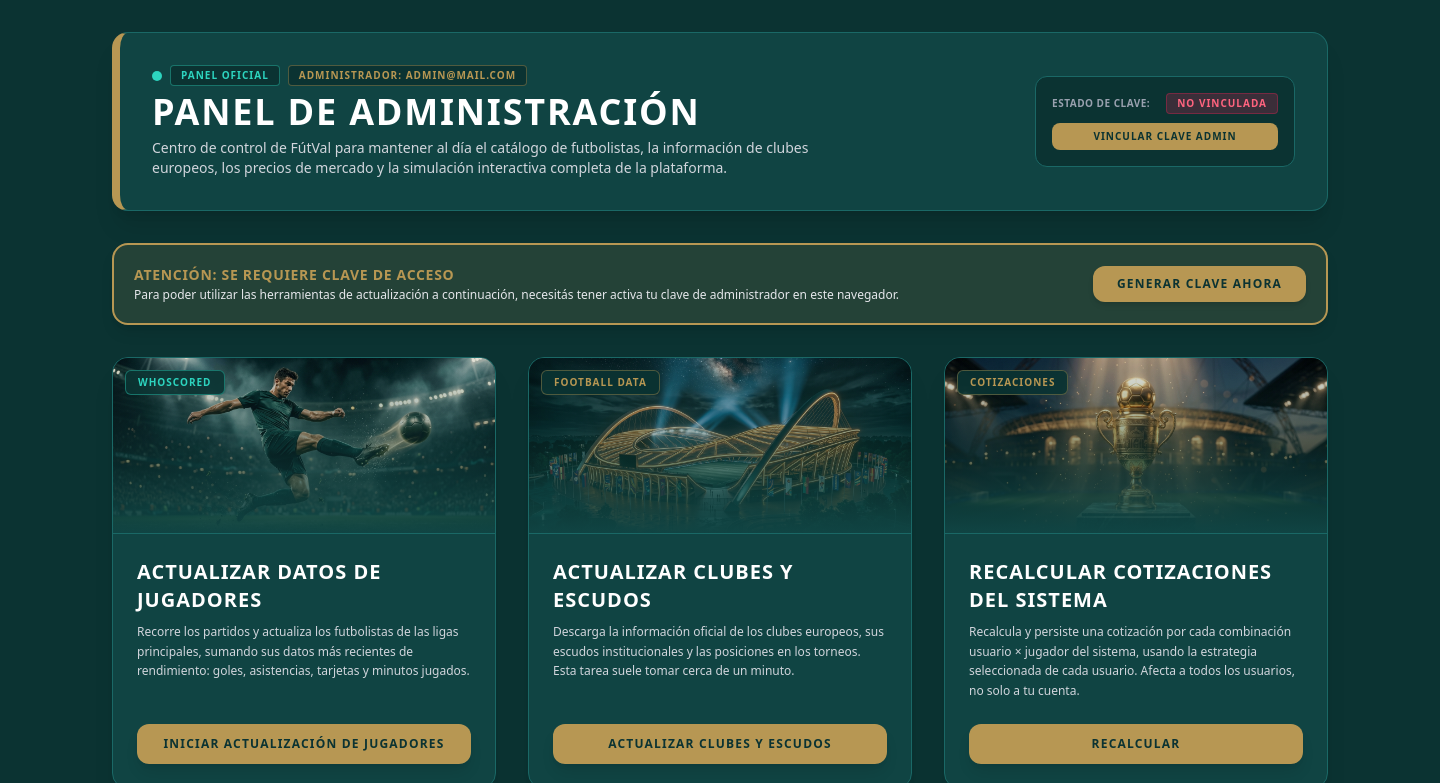
Scenario: AdminPage › muestra un error si falla el recálculo global de cotizaciones
This screenshot has width=1440, height=783.
What coordinates should you click on to do the following:
click the button "Recalcular"
I would click on:
 (1136, 744)
Its box is [969,724,1303,764].
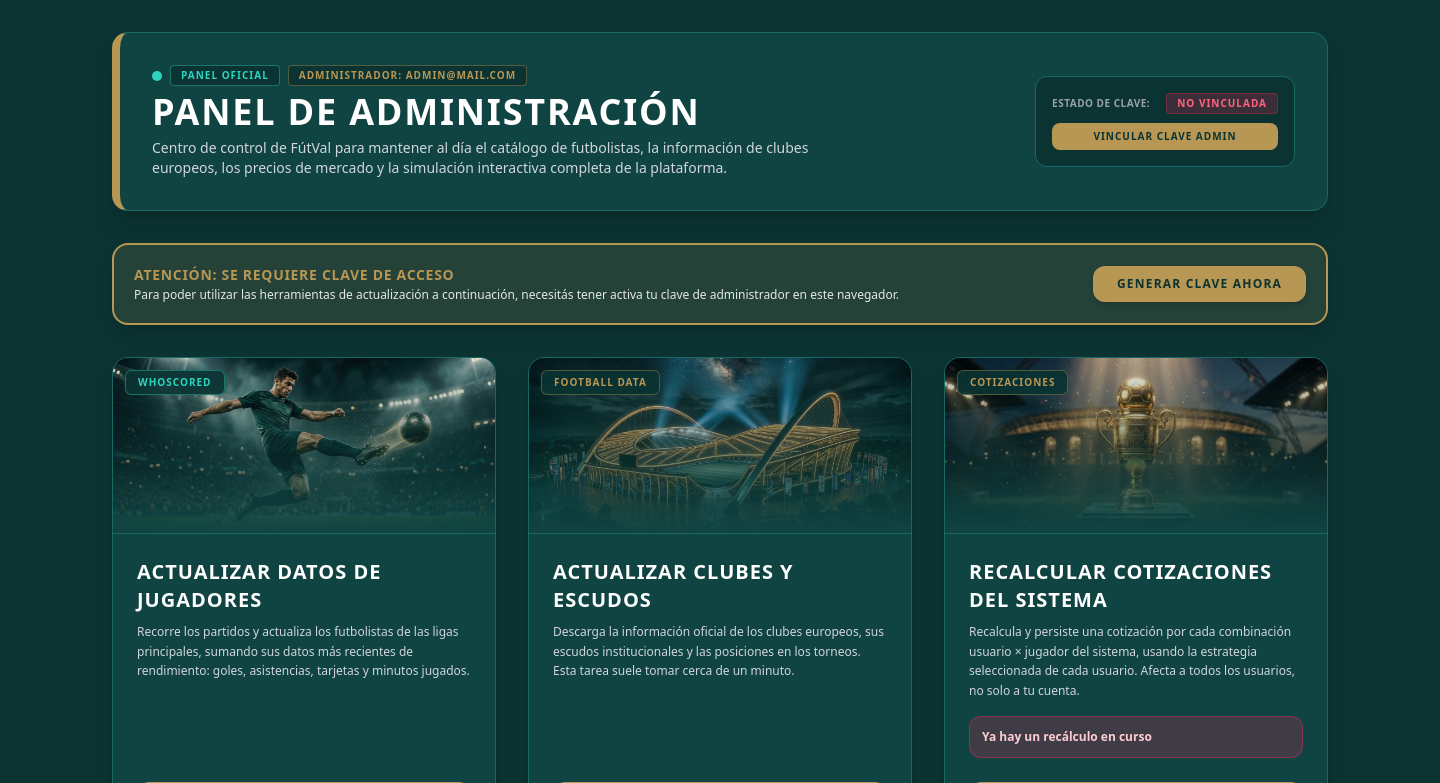
Check: the text "Ya hay un recálculo en curso" is shown, box [982,728,1152,745]
